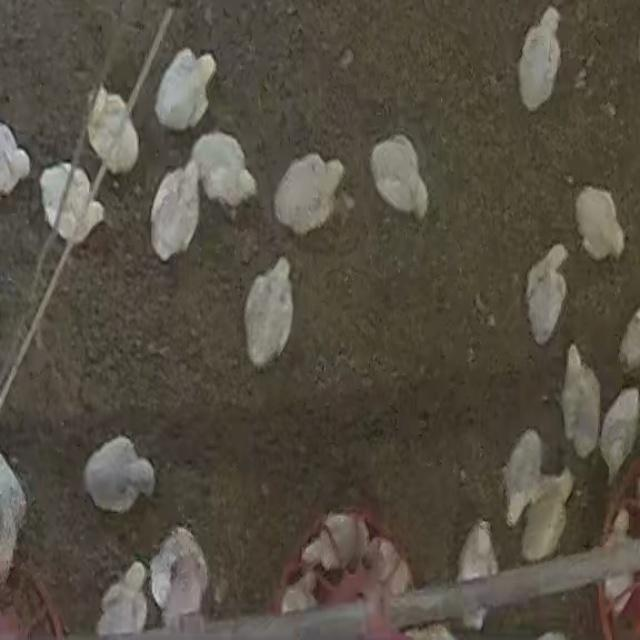chicken: (272, 151, 346, 237), (198, 127, 259, 223), (147, 156, 201, 262), (150, 525, 209, 621), (370, 134, 432, 224), (152, 46, 218, 130), (84, 435, 154, 513), (39, 163, 104, 243), (522, 238, 570, 346), (516, 5, 563, 114), (573, 178, 629, 266), (86, 87, 141, 174), (299, 508, 369, 568), (98, 558, 149, 637), (502, 426, 542, 526)
